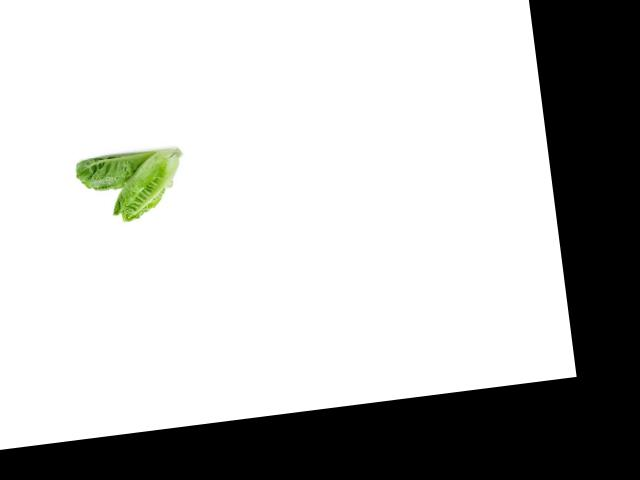lettuce: (66, 142, 163, 197)
